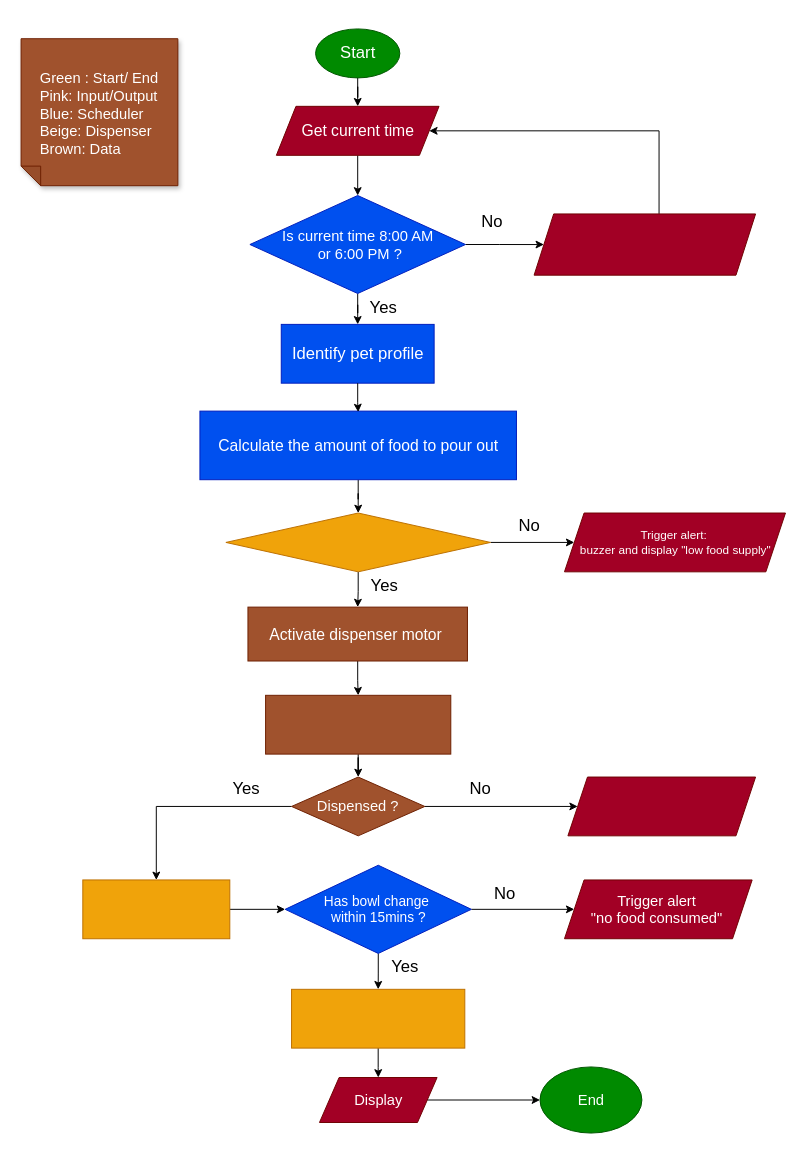
This 803x1151 diagram has some shape labels left out. The centre of each missing label's shape, as x and y in pixels:
Collect data on food has been consume: the point at 378,1018
Dispense to correct bowl: the point at 358,724
Display " not feeding time": the point at 644,244
Is food level sufficient ?: the point at 357,542
Read weight sensor (in bowl): the point at 156,909
Trigger alert "Dispensing failed": the point at 661,806
